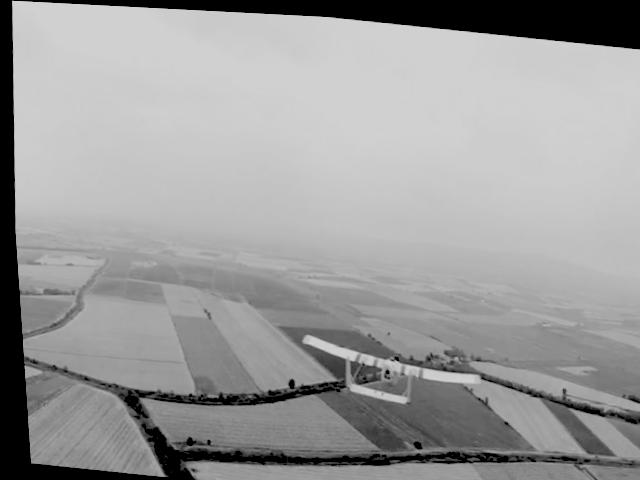hedef: (287, 315, 488, 426)
